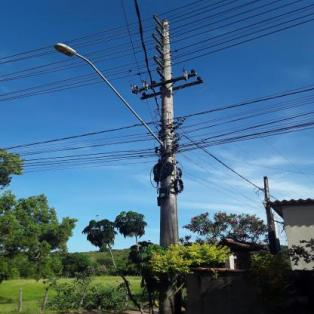Poste: (144, 13, 192, 314)
